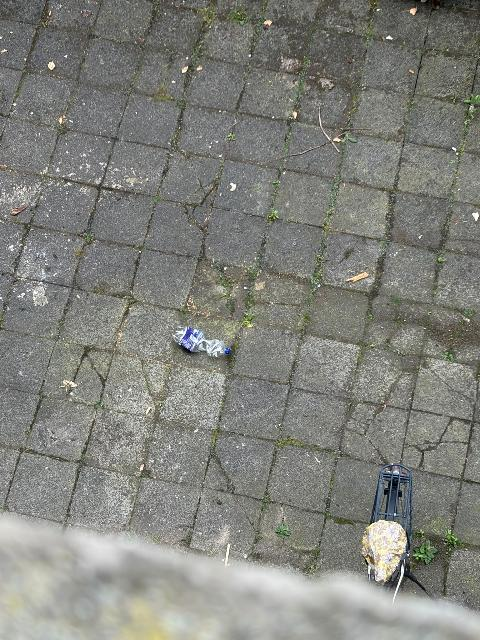plastic_bottle: (173, 325, 233, 360)
